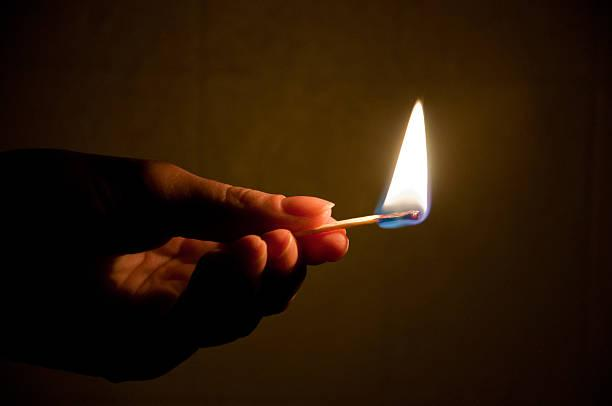Fire: (368, 96, 432, 230)
